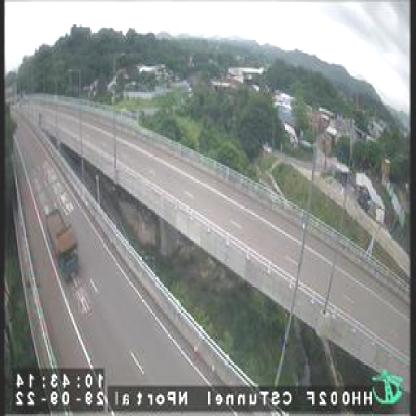Truck: (39, 205, 87, 286)
